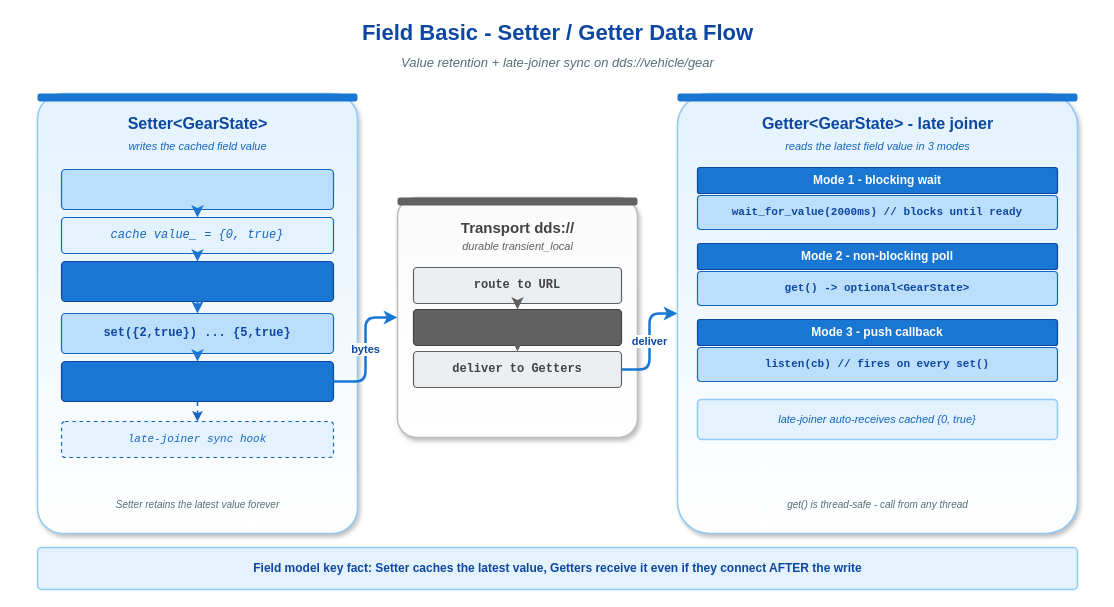
This 1114x607 diagram has some shape labels left out. Each missing label, with the centre of its shape:
"keep last sample" belongs at [517,327].
"overwrite cache + emit" belongs at [197,381].
"serialize GearState to bytes" belongs at [197,281].
"set({0, true}) // Park" belongs at [197,189].
